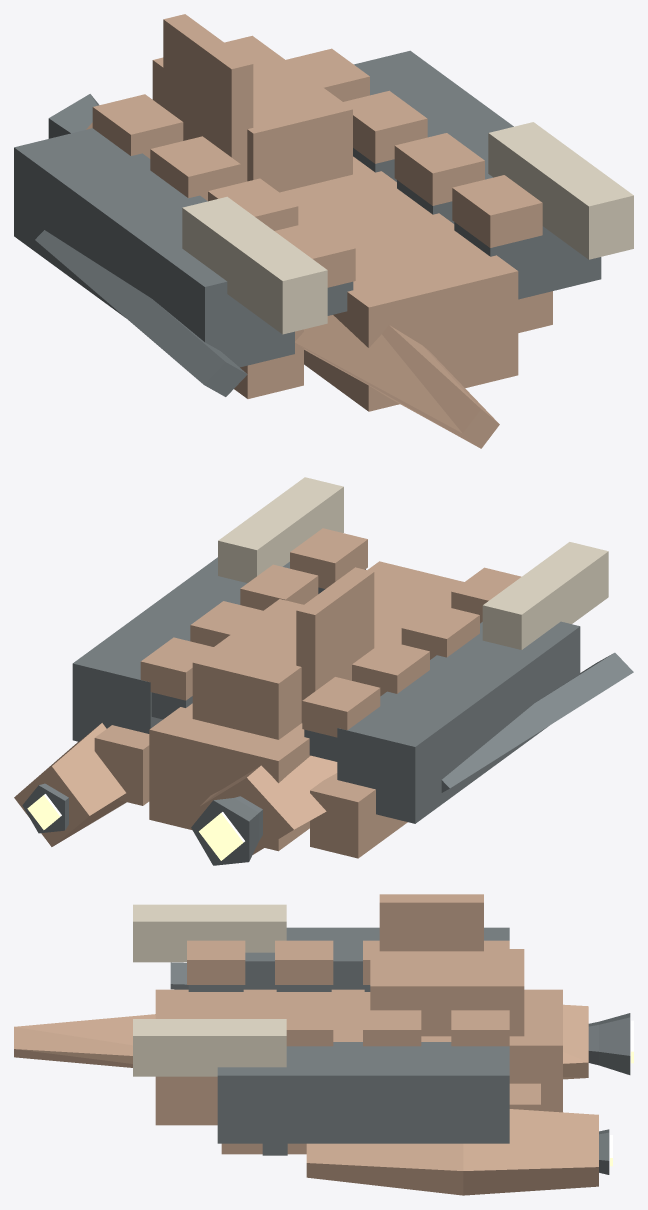
3 renders of one model, top to bottom at view 1: azimuth 30°, elevation 25°; view 2: azimuth 150°, elevation 25°; view 3: azimuth 270°, elevation 25°, orthographic. The views are drawn at different scales.
Bounding box in the file's own units: 14.4 × 8.64 × 22.53.
